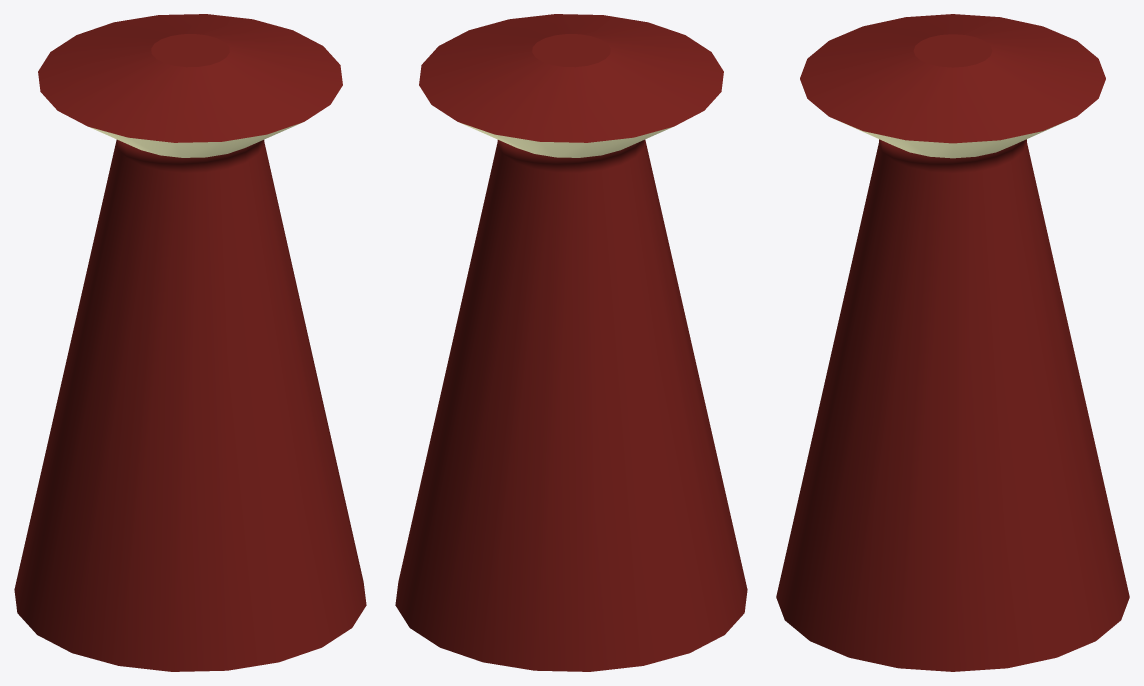
Rendered from Lamp_Texture.obj.
3 views of the same model, side by side, from view 1: azimuth 30°, elevation 25°; view 2: azimuth 150°, elevation 25°; view 3: azimuth 270°, elevation 25° (orthographic).
Parts seen in each view (by area): view 1: pCylinder1; view 2: pCylinder1; view 3: pCylinder1.
Part boxes in pixels (bbox=[...]): pCylinder1: bbox=[14, 14, 366, 671]; pCylinder1: bbox=[395, 14, 747, 671]; pCylinder1: bbox=[776, 14, 1129, 671].
Bounding box in the file's own units: 2.62 × 4.47 × 2.62.
